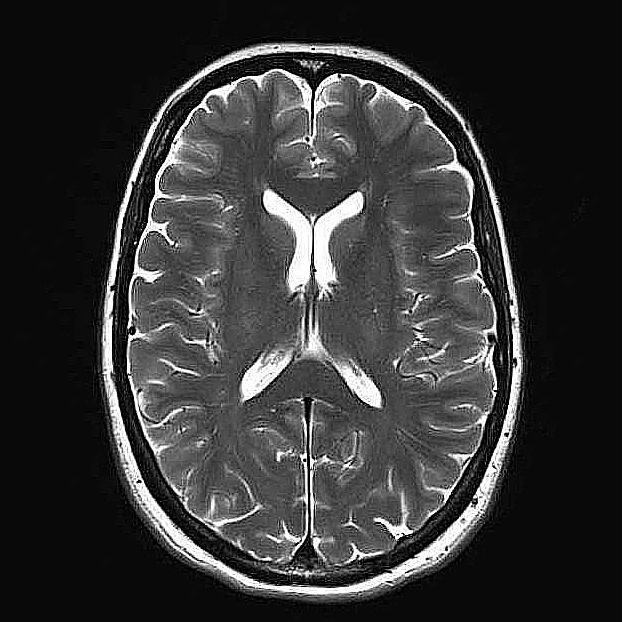Normal_Brain: (1, 6, 622, 622)
